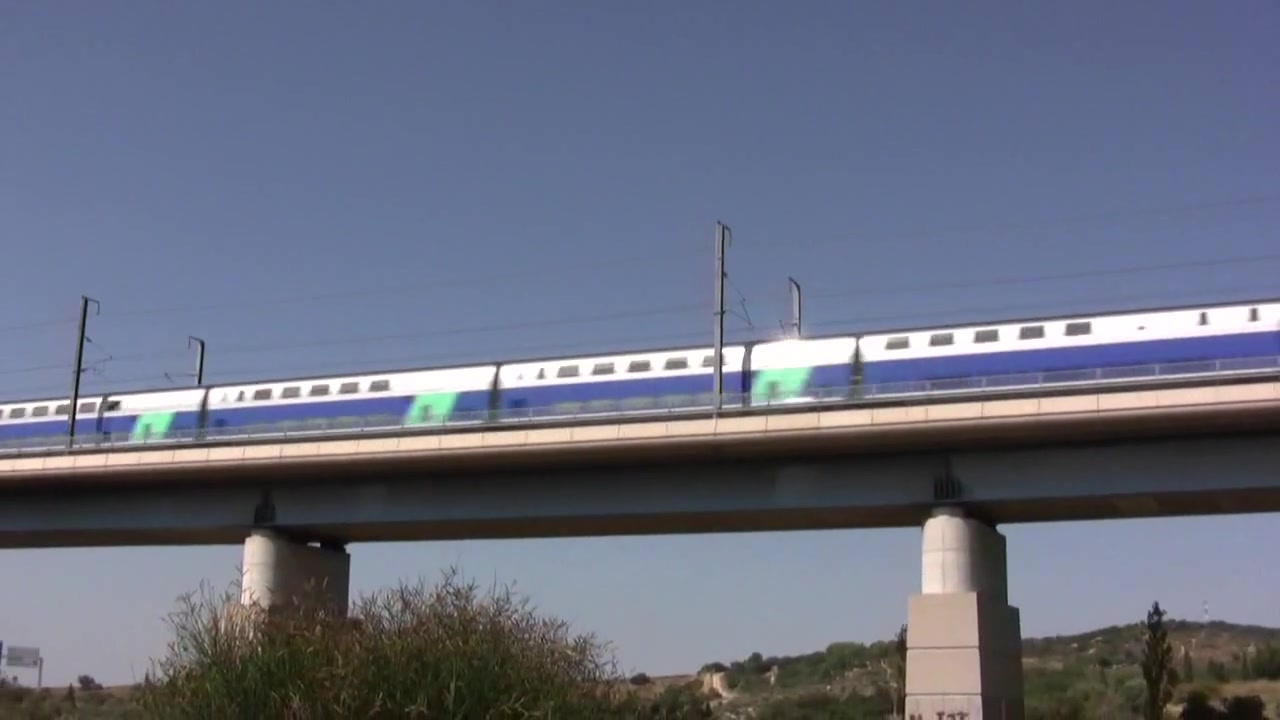train: (1, 300, 1280, 464)
